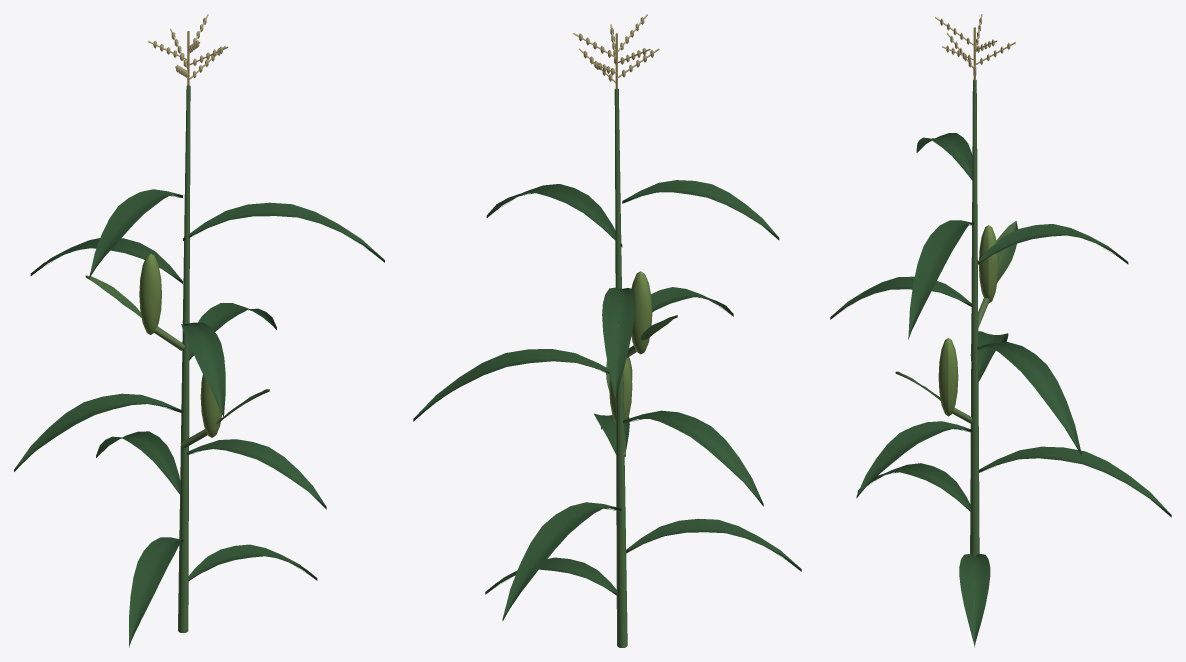
The model's file is maiz_suave.glb.
The picture shows the model from 3 angles, left to right: view 1: azimuth 30°, elevation 25°; view 2: azimuth 150°, elevation 25°; view 3: azimuth 270°, elevation 25°; orthographic projection. The views are drawn at different scales.
Parts seen in each view (by area): view 1: maiz_suave; view 2: maiz_suave; view 3: maiz_suave.
Boxes of the visible parts, box(x1,y1,x2,y2) form: maiz_suave: box(14, 14, 384, 647); maiz_suave: box(413, 14, 801, 647); maiz_suave: box(830, 14, 1171, 647).
Bounding box in the file's own units: 1.48 × 2.67 × 1.42.
